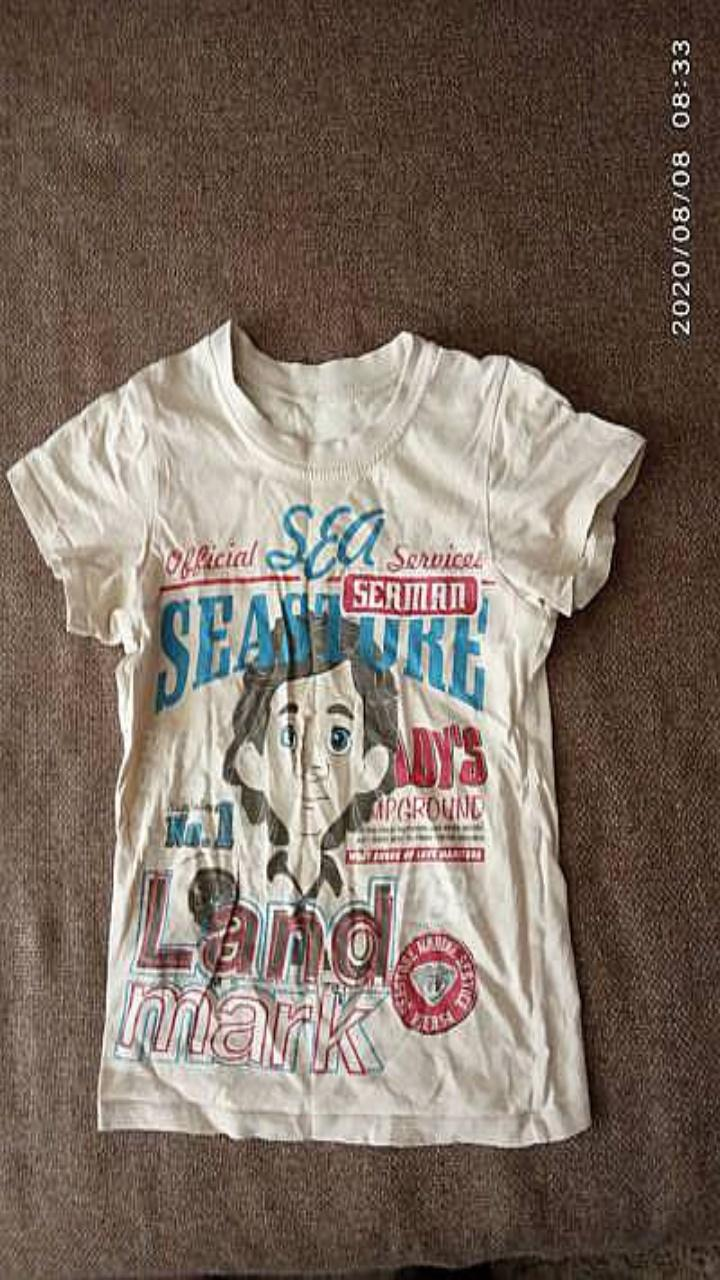T-Shirt: (6, 320, 645, 1146)
